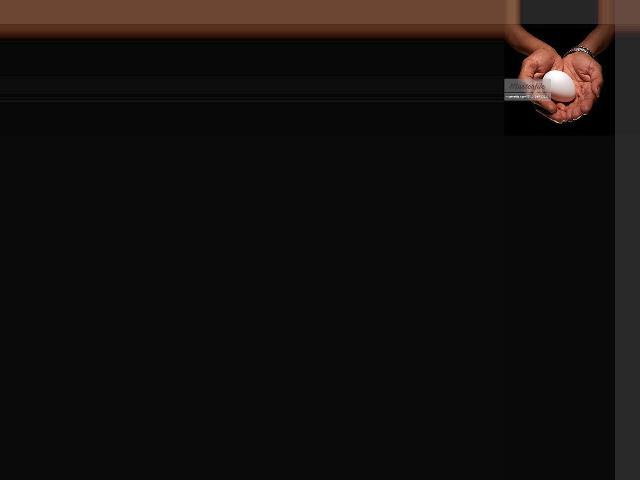egg: (543, 71, 576, 103)
